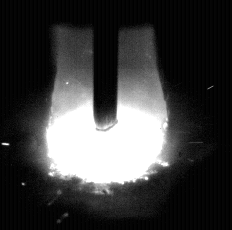arame: (94, 0, 119, 131)
poca: (46, 0, 167, 230)
